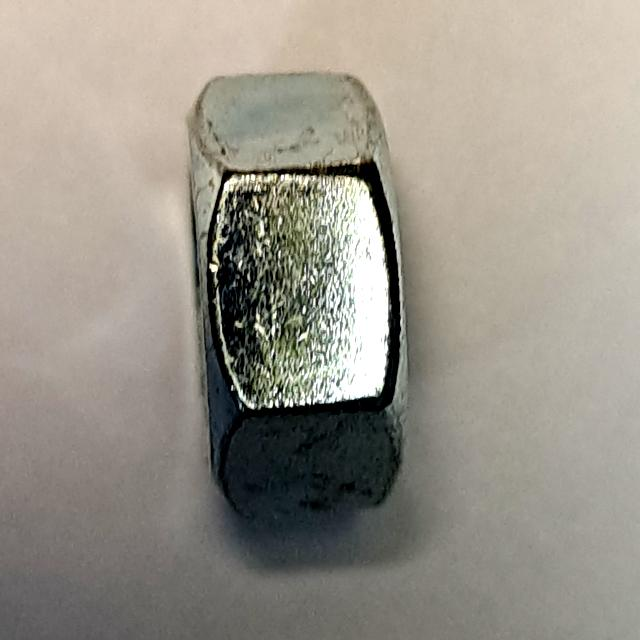Side_Excellent: (166, 58, 424, 541)
